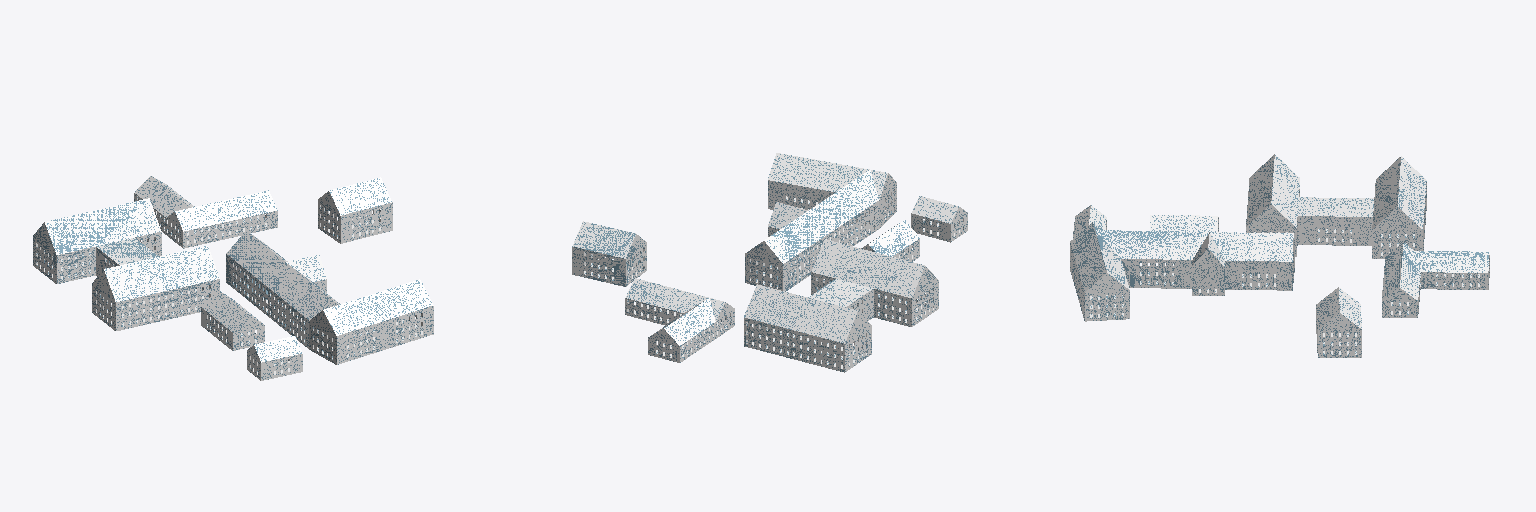
File: Dieburg_houses.obj
3 views of the same model, side by side, from view 1: azimuth 30°, elevation 25°; view 2: azimuth 150°, elevation 25°; view 3: azimuth 270°, elevation 25° (orthographic).
Parts seen in each view (by area): view 1: SketchUp_ID3, SketchUp.003_ID33, SketchUp.001_ID17, SketchUp.002_ID25, SketchUp.004_ID41, SketchUp.005_ID49; view 2: SketchUp_ID3, SketchUp.003_ID33, SketchUp.001_ID17, SketchUp.002_ID25, SketchUp.005_ID49, SketchUp.004_ID41; view 3: SketchUp.003_ID33, SketchUp_ID3, SketchUp.001_ID17, SketchUp.002_ID25, SketchUp.004_ID41, SketchUp.005_ID49.
Part boxes in pixels (x1,y1,x2,y2): SketchUp_ID3: (33,198,219,330); SketchUp.003_ID33: (226,231,433,364); SketchUp.001_ID17: (134,176,277,248); SketchUp.002_ID25: (318,177,392,243); SketchUp.004_ID41: (201,289,264,350); SketchUp.005_ID49: (247,336,302,380); SketchUp_ID3: (744,239,938,372); SketchUp.003_ID33: (745,153,896,291); SketchUp.001_ID17: (625,278,734,362); SketchUp.002_ID25: (572,221,646,286); SketchUp.005_ID49: (911,196,967,242); SketchUp.004_ID41: (861,220,919,261); SketchUp.003_ID33: (1070,222,1294,321); SketchUp_ID3: (1246,154,1426,258); SketchUp.001_ID17: (1382,243,1489,317); SketchUp.002_ID25: (1316,287,1361,357); SketchUp.004_ID41: (1150,215,1218,231); SketchUp.005_ID49: (1073,205,1106,238).
Bounding box in the file's own units: 4.37 × 0.7112 × 5.11.